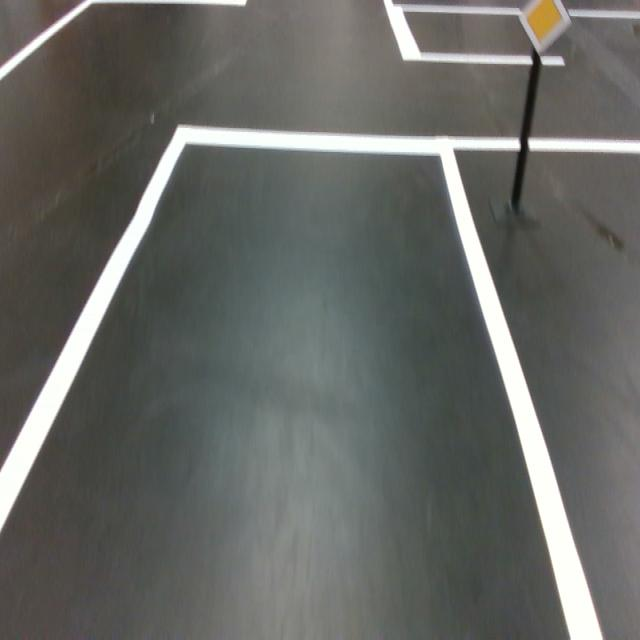priority-sign: (517, 0, 573, 57)
